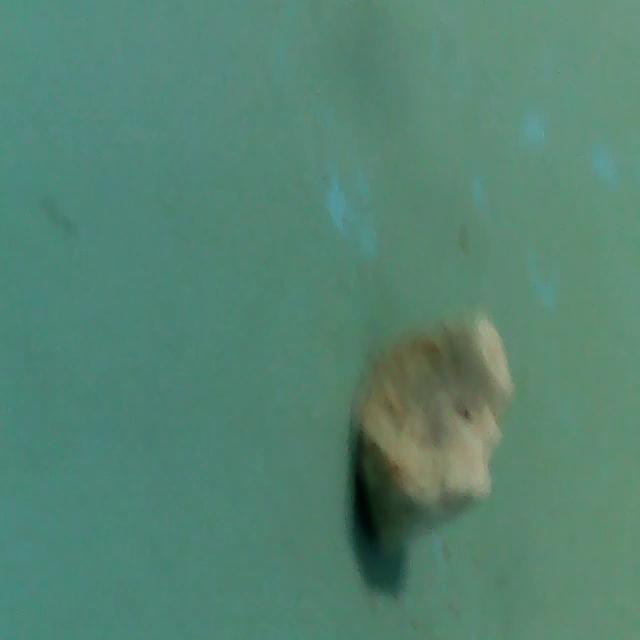rock: (346, 302, 529, 566)
